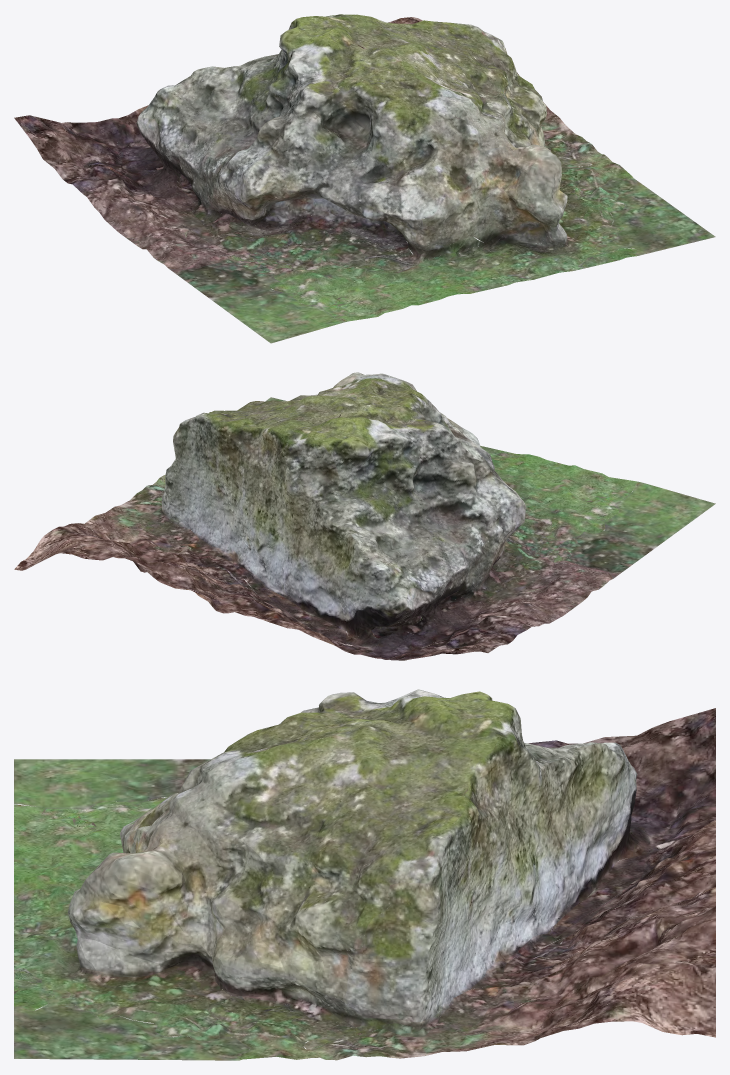
Rendered from rock1_quest.glb.
The picture shows the model from 3 angles, top to bottom: view 1: azimuth 30°, elevation 25°; view 2: azimuth 150°, elevation 25°; view 3: azimuth 270°, elevation 25°; orthographic projection. The views are drawn at different scales.
Parts seen in each view (by area): view 1: mossy_rock_mossy_rock2_0, mossy_rock_mossy_rock1_0; view 2: mossy_rock_mossy_rock2_0, mossy_rock_mossy_rock1_0; view 3: mossy_rock_mossy_rock1_0, mossy_rock_mossy_rock2_0.
Part boxes in pixels (x1,y1,x2,y2): mossy_rock_mossy_rock2_0: [62, 14, 715, 343]; mossy_rock_mossy_rock1_0: [14, 14, 637, 322]; mossy_rock_mossy_rock2_0: [52, 377, 715, 656]; mossy_rock_mossy_rock1_0: [14, 372, 641, 660]; mossy_rock_mossy_rock1_0: [14, 702, 715, 1060]; mossy_rock_mossy_rock2_0: [14, 689, 715, 1060].
Bounding box in the file's own units: 6 × 1.92 × 6.
2 materials, 2 textured.
